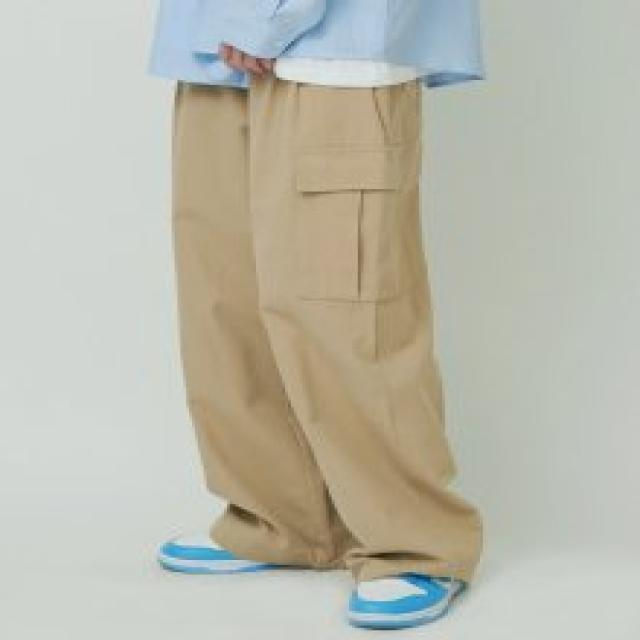long-pants: (172, 75, 484, 588)
